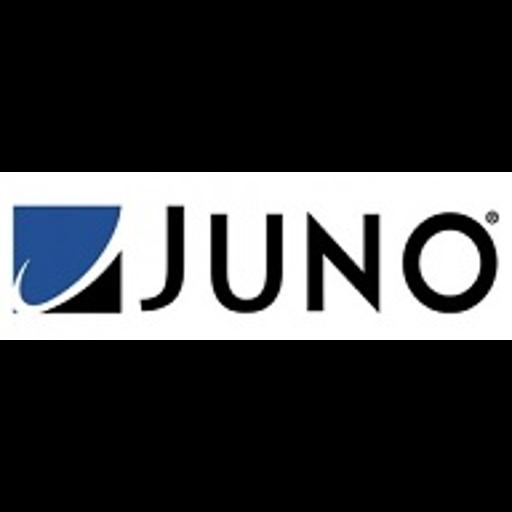Juno Online Services: (0, 172, 512, 340)
